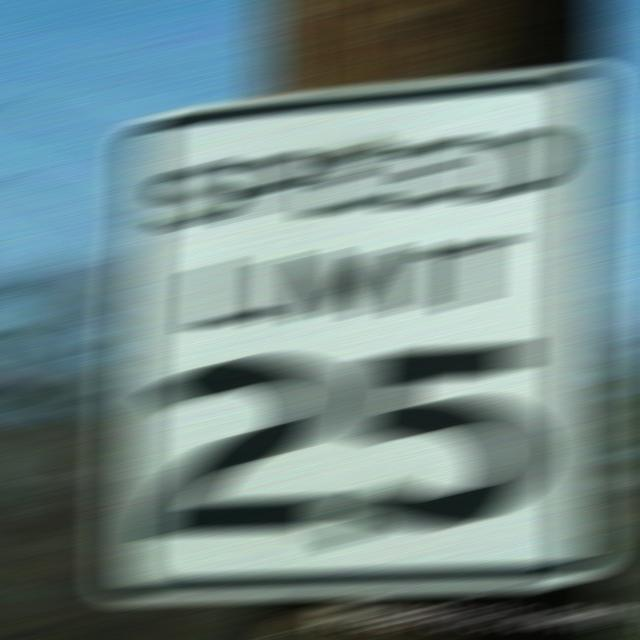speedLimit25: (117, 123, 606, 588)
